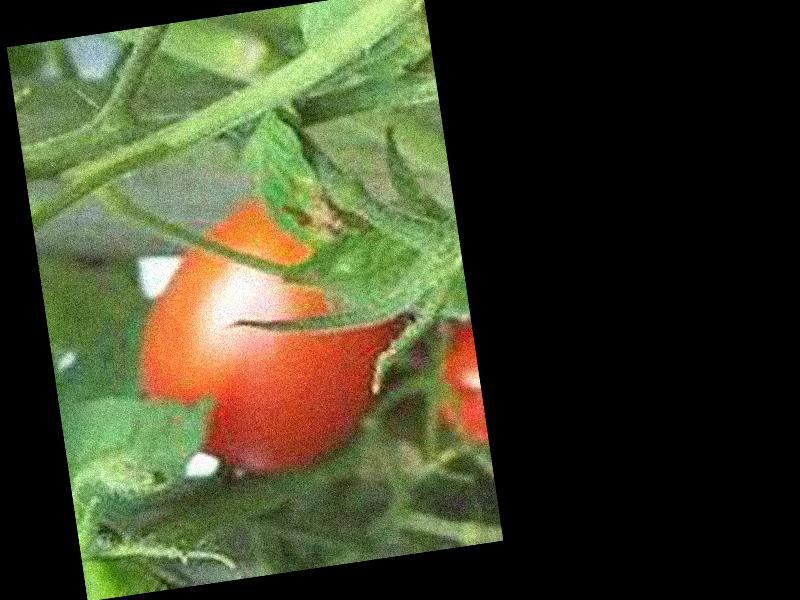Tomato: (117, 188, 409, 488)
